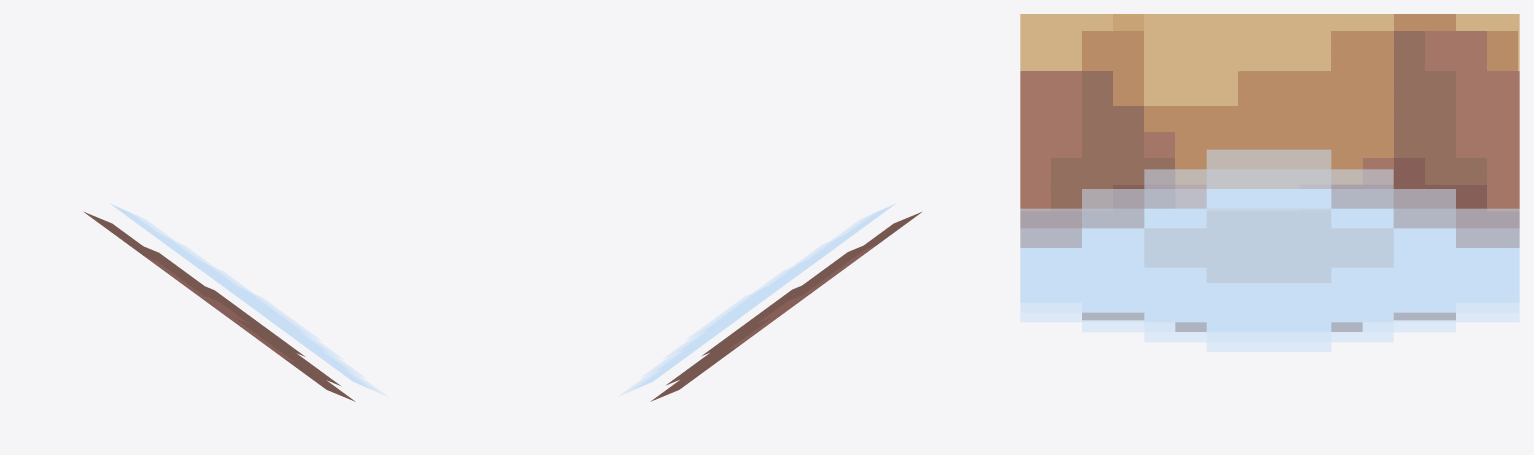
3 renders of one model, left to right at view 1: azimuth 30°, elevation 25°; view 2: azimuth 150°, elevation 25°; view 3: azimuth 270°, elevation 25°, orthographic. The views are drawn at different scales.
Bounding box in the file's own units: 0.5459 × 0.6892 × 1.
2 materials, 2 textured.
